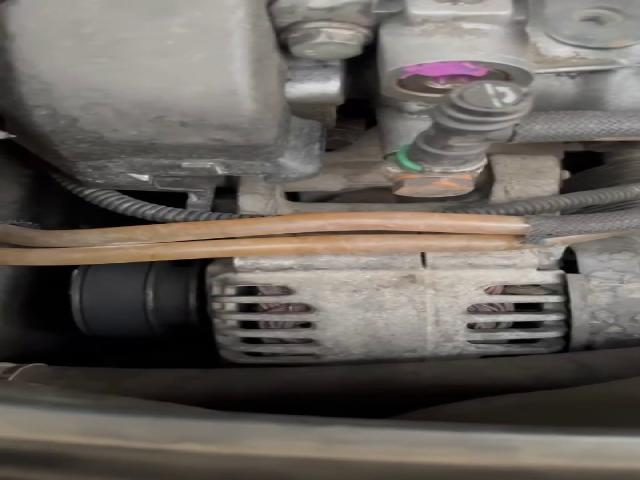alternator: (208, 247, 568, 363)
high_pressure_pump: (378, 0, 638, 152)
